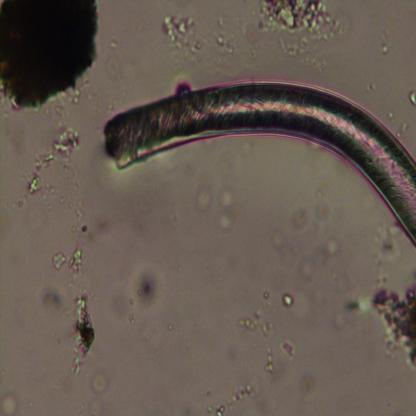Background material: (0, 0, 99, 112), (65, 243, 97, 374), (368, 282, 416, 369), (254, 1, 344, 47), (25, 124, 82, 195), (163, 12, 200, 56), (63, 198, 93, 241), (312, 173, 332, 230), (132, 269, 159, 311), (215, 185, 238, 233), (6, 199, 50, 224), (371, 231, 403, 262), (272, 235, 300, 269), (42, 283, 67, 320), (337, 291, 372, 315), (312, 231, 341, 259), (239, 314, 274, 336), (227, 384, 257, 408), (294, 376, 318, 399), (298, 258, 314, 289), (0, 390, 19, 415), (91, 371, 110, 394), (292, 204, 309, 229), (263, 344, 275, 376), (196, 190, 212, 214), (279, 338, 294, 359), (50, 250, 67, 268), (377, 37, 389, 55), (398, 119, 408, 140), (282, 294, 296, 309), (407, 87, 416, 106), (108, 37, 116, 52)
